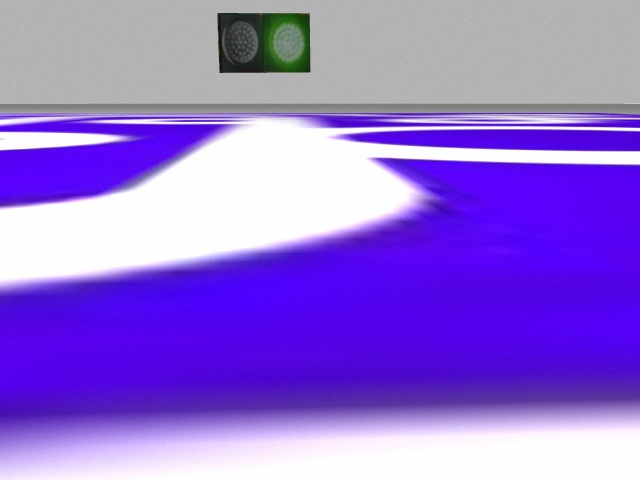green: (262, 14, 313, 72)
